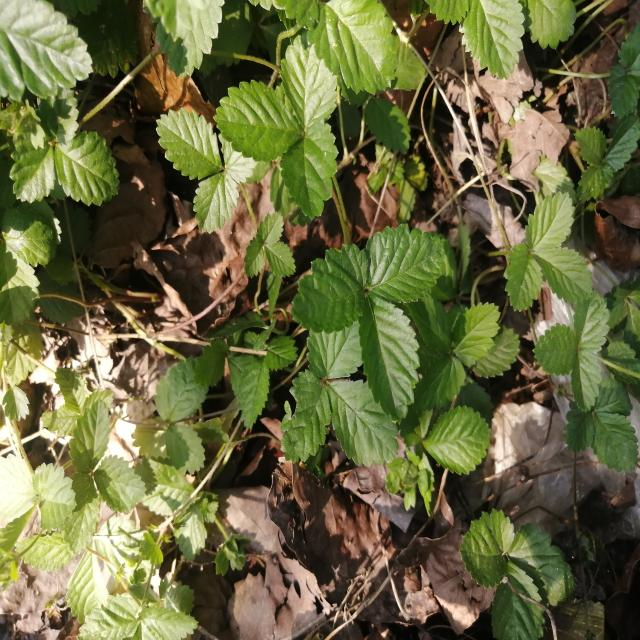Mock_strawberry: (304, 232, 450, 435), (197, 51, 364, 227)
